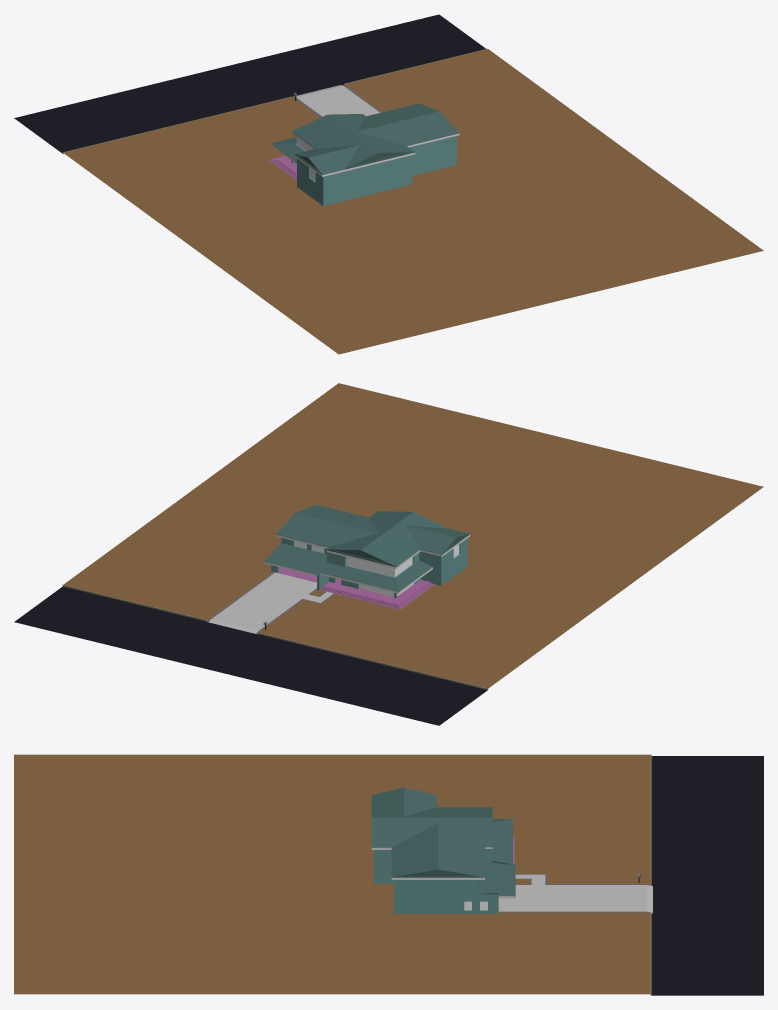
Rendered from synthwaveHouse.glb.
The picture shows the model from 3 angles, top to bottom: view 1: azimuth 30°, elevation 25°; view 2: azimuth 150°, elevation 25°; view 3: azimuth 270°, elevation 25°; orthographic projection. The views are drawn at different scales.
Parts seen in each view (by area): view 1: G Ground, G Road, R Roof, F1 Floor1.001, F2 Floor2, G DriveIn, G Floor1Ground; view 2: G Ground, G Road, R Roof, F2 Floor2, G DriveIn, G Floor1Ground, F1 Floor1.001, F2 Window; view 3: G Ground, G Road, R Roof, G DriveIn, F2 Floor2, F1 Floor1.001.
Part boxes in pixels (box(x1,y1,x2,y2)): G Ground: box(63, 49, 763, 354); G Road: box(14, 14, 487, 153); R Roof: box(292, 103, 459, 176); F1 Floor1.001: box(291, 148, 456, 204); F2 Floor2: box(271, 136, 456, 189); G DriveIn: box(293, 85, 381, 117); G Floor1Ground: box(269, 156, 412, 205); G Ground: box(63, 383, 763, 688); G Road: box(14, 585, 488, 725); R Roof: box(275, 504, 470, 568); F2 Floor2: box(264, 538, 467, 593); G DriveIn: box(207, 572, 334, 634); G Floor1Ground: box(279, 565, 467, 609); F1 Floor1.001: box(271, 550, 467, 597); F2 Window: box(346, 557, 412, 576); G Ground: box(14, 754, 650, 994); G Road: box(650, 754, 763, 995); R Roof: box(371, 787, 492, 879); G DriveIn: box(498, 874, 652, 913); F2 Floor2: box(374, 819, 515, 898); F1 Floor1.001: box(374, 864, 515, 913).
Bounding box in the file's own units: 100 × 10.11 × 132.
